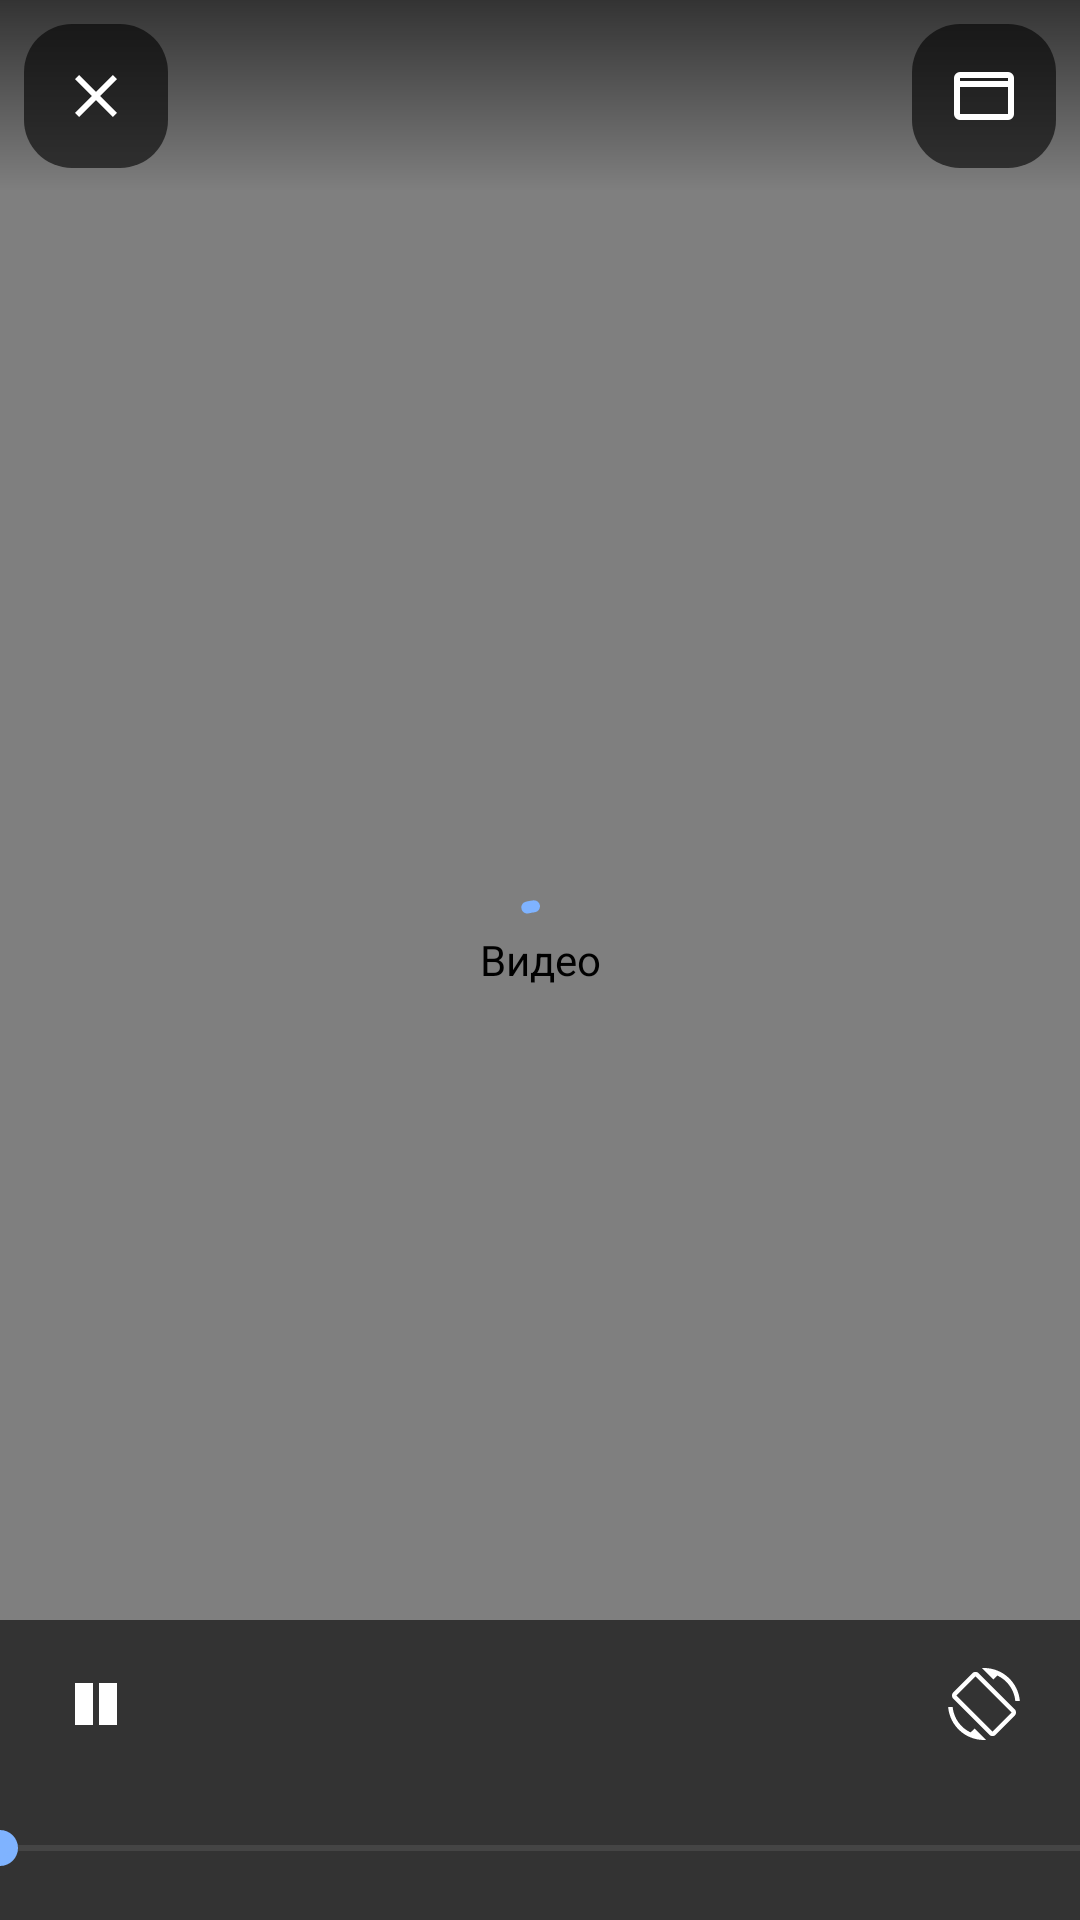

Icon click points for this 1080px x 1920px phone screenshot, format (x=x, y=y):
Закрыть: (x=96, y=96)
Открыть на странице VK: (x=984, y=96)
Пауза: (x=96, y=1704)
Повернуть экран: (x=984, y=1704)
